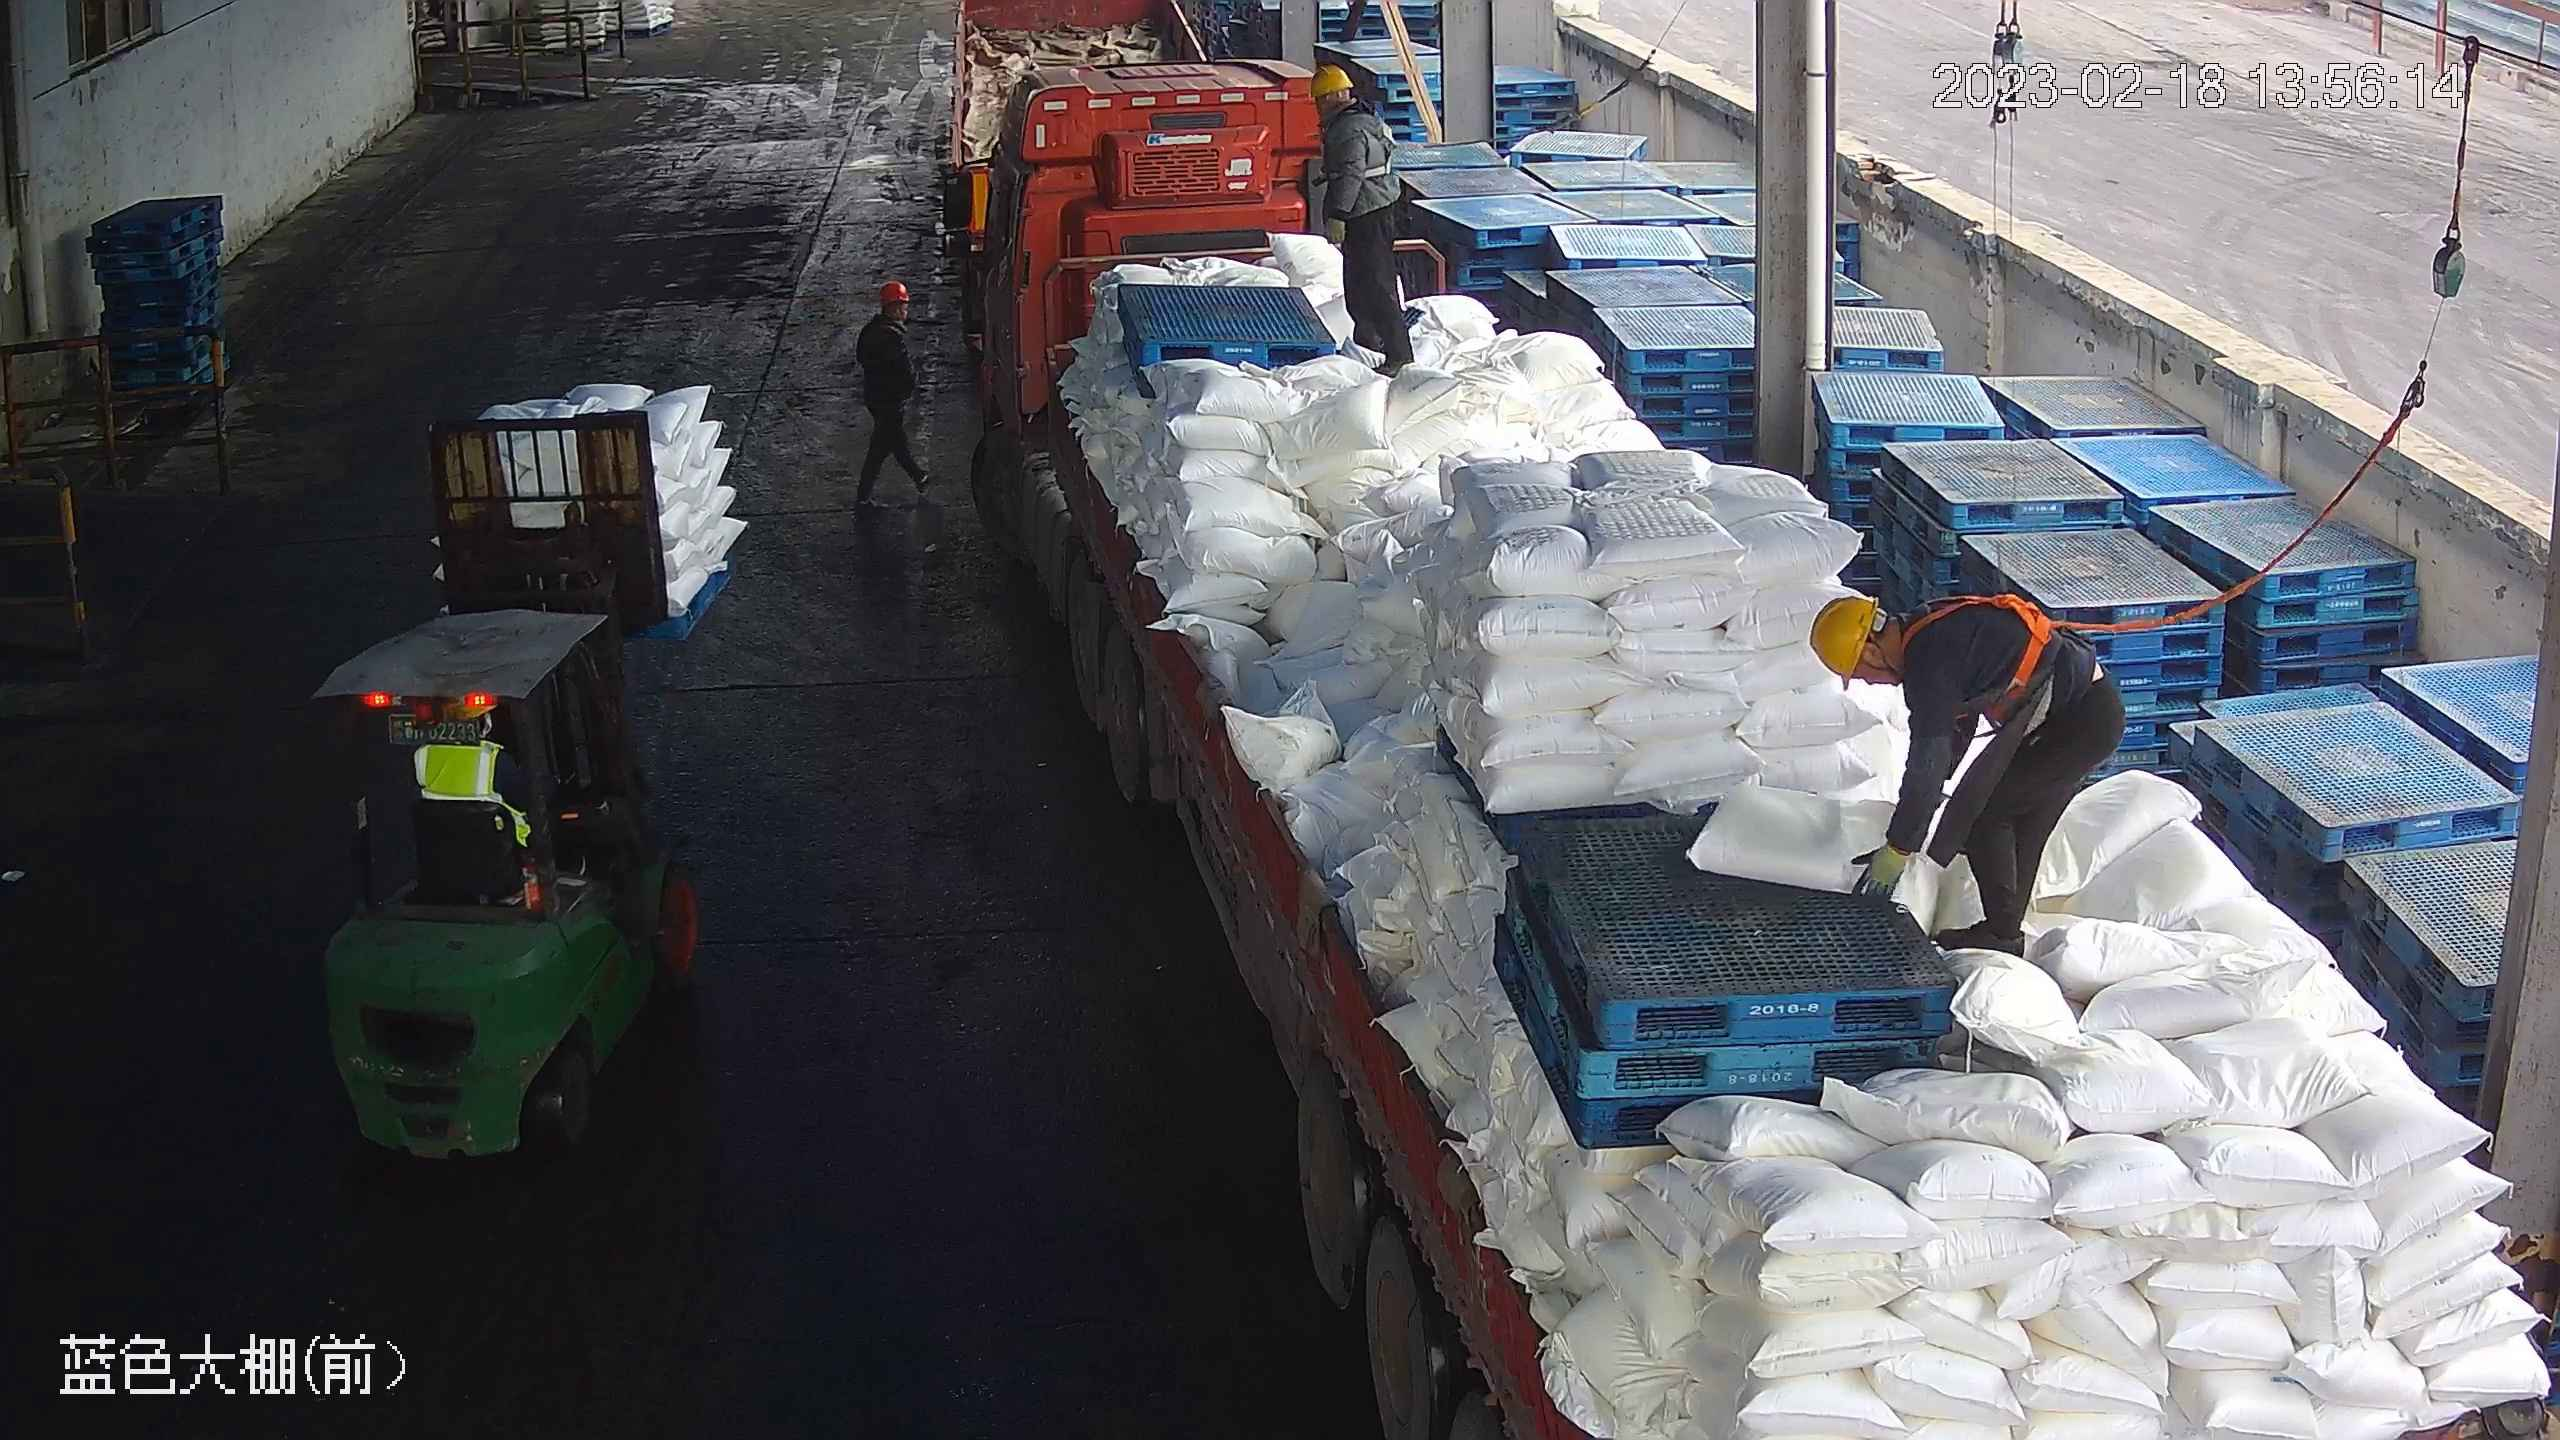belt: (1901, 582, 2061, 712), (1334, 105, 1408, 189)
head: (1806, 580, 1990, 726), (1309, 63, 1396, 149), (859, 277, 920, 353)
helmet: (1808, 590, 1880, 691), (1306, 64, 1357, 97), (880, 276, 914, 304)
people: (1808, 578, 2126, 960), (1305, 61, 1423, 379), (850, 277, 933, 514)
truck: (943, 51, 2557, 1440)
